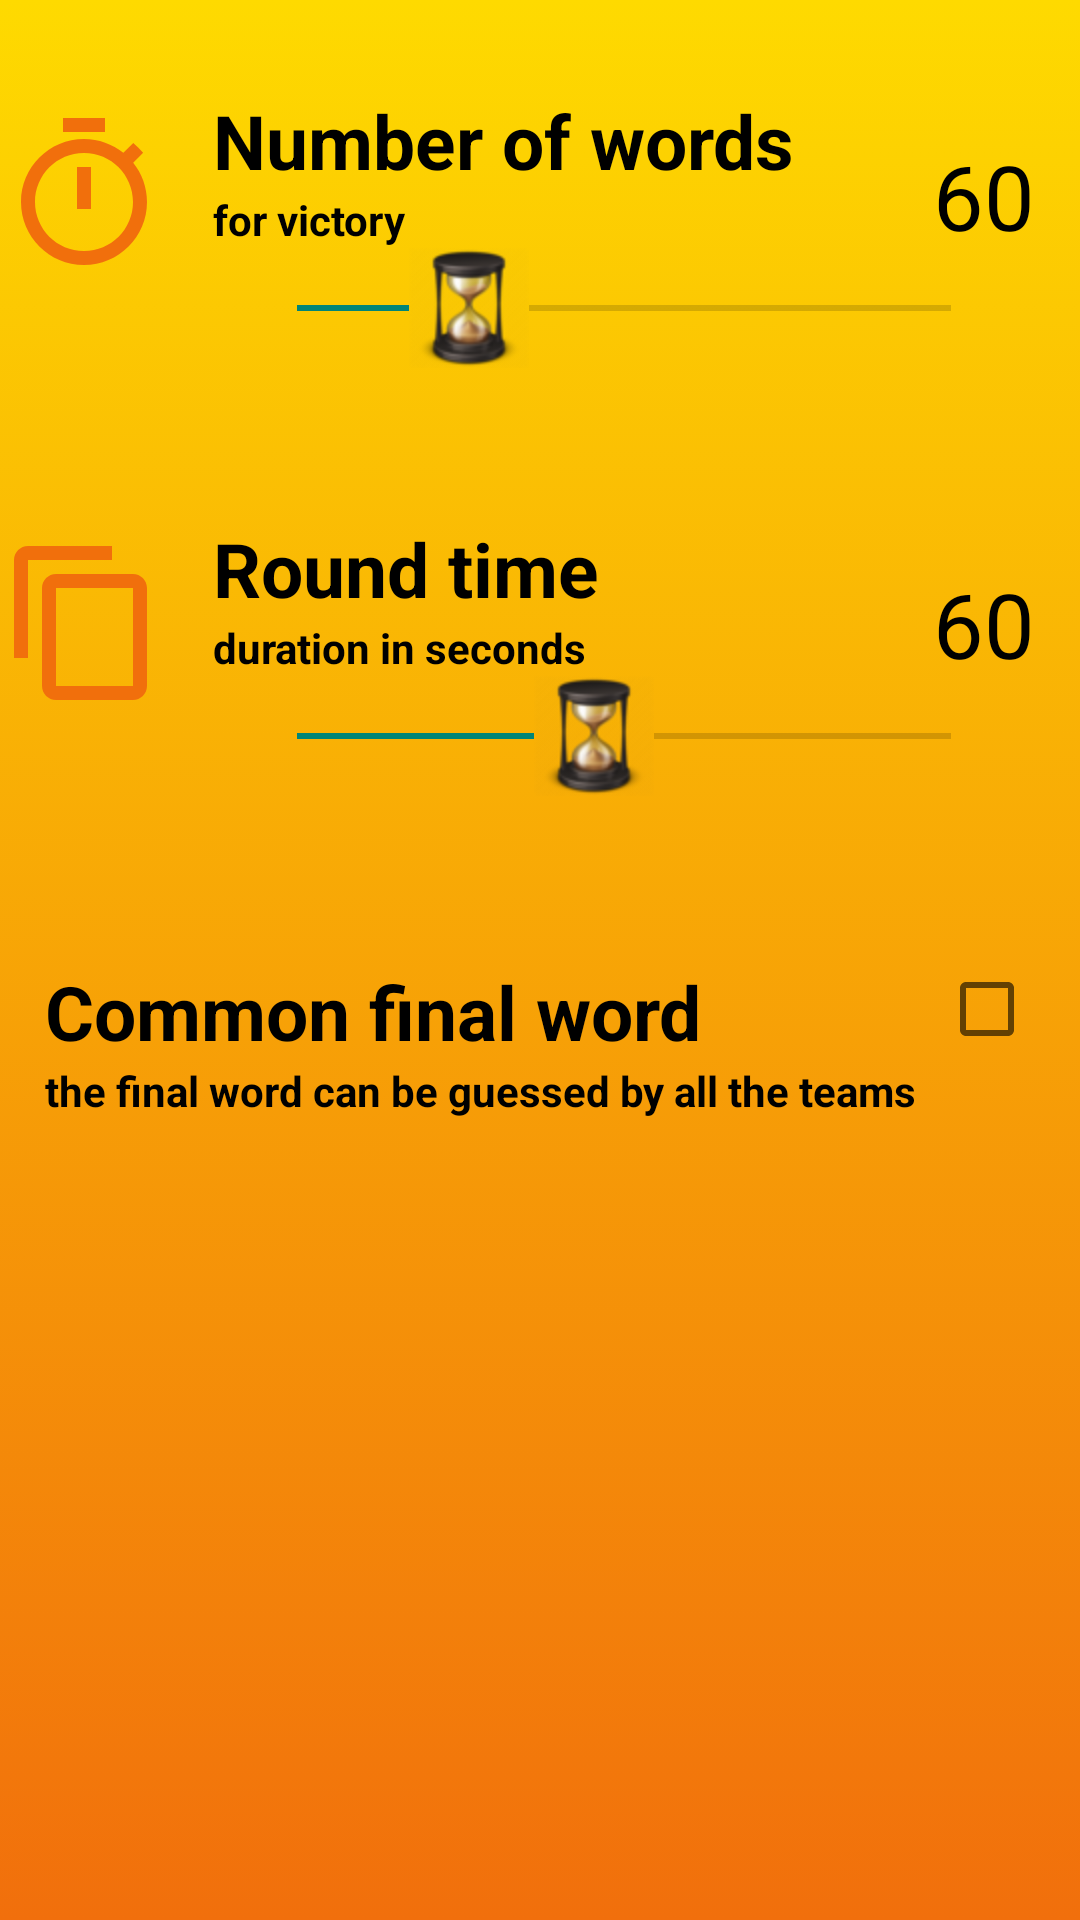

Screen size 1080px×1920px. Icon name, then its center in pixels as point (x, y):
timer: point (84, 191)
